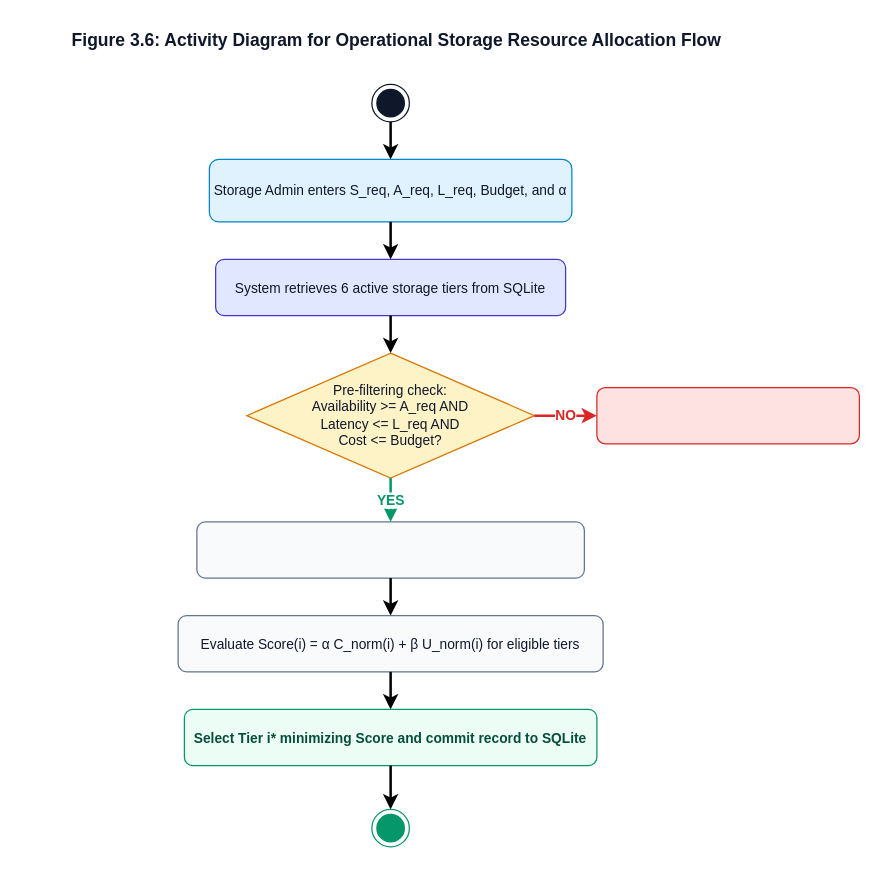
Image size: 881x869. Some labels were removed from this diagram. The shapes that lost their labels are listed below. From the top down, each one's box as (x1, y1, x2, y2) in pixels, then its label:
(596, 386, 859, 444): Display Feasibility Exception Dialog (No Compliant Tier Found)
(196, 521, 584, 578): Calculate Min-Max Scaled Norms: C_norm and U_norm
